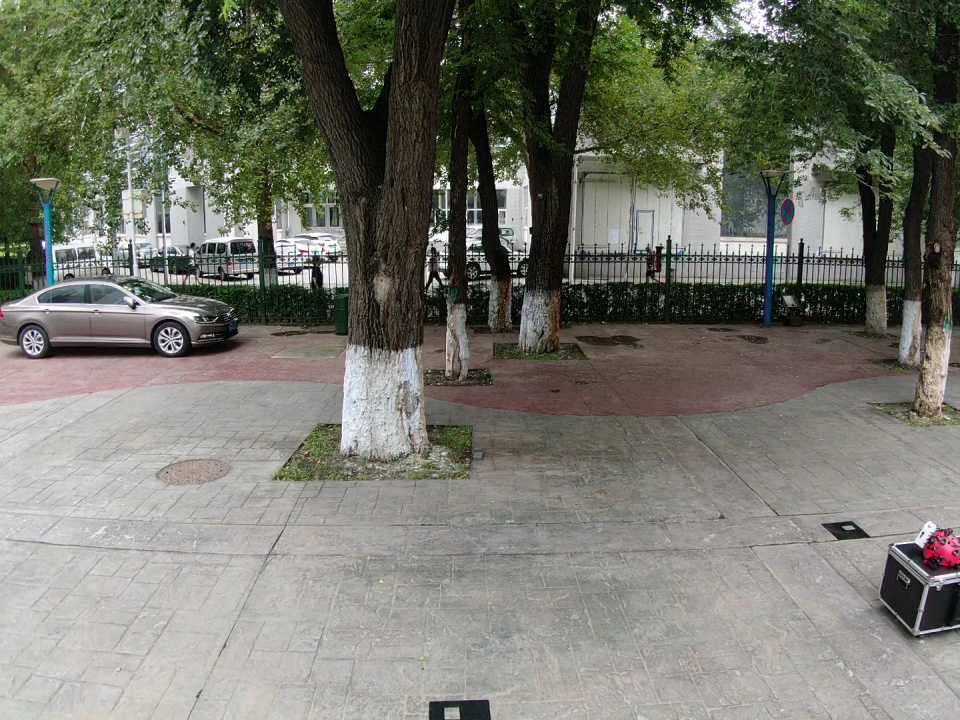box: (881, 541, 960, 635)
helmet: (923, 532, 960, 569)
qrcode: (429, 700, 491, 720), (821, 521, 872, 541)
